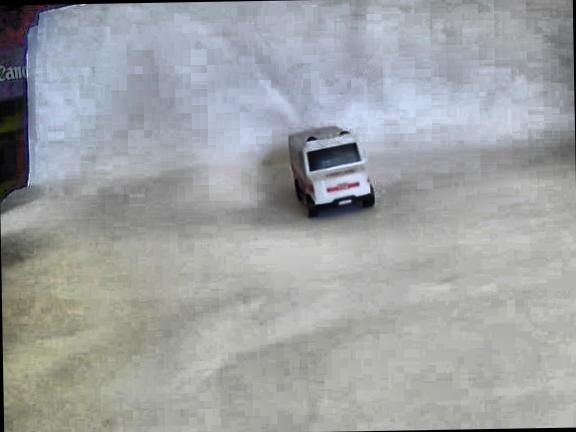ambulance: (286, 124, 374, 217)
